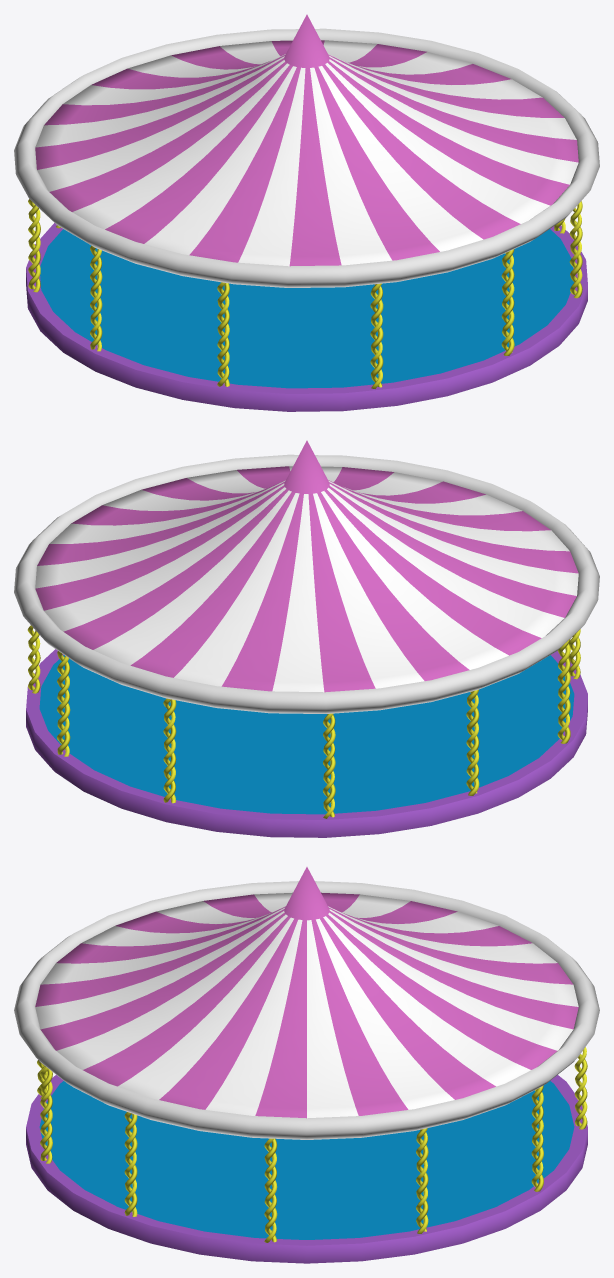
Rendered from MagicScoops.fbx.
3 views of the same model, one above another, from view 1: azimuth 30°, elevation 25°; view 2: azimuth 150°, elevation 25°; view 3: azimuth 270°, elevation 25° (orthographic).
Parts seen in each view (by area): view 1: MagicScoopRoof, MagicScoopBase, MagicScoopCornice, MagicScoopSpirals; view 2: MagicScoopRoof, MagicScoopBase, MagicScoopCornice, MagicScoopSpirals; view 3: MagicScoopRoof, MagicScoopBase, MagicScoopCornice, MagicScoopSpirals.
Boxes of the visible parts, box(x1,y1,x2,y2) form: MagicScoopRoof: box(35, 14, 578, 266); MagicScoopBase: box(26, 223, 587, 411); MagicScoopCornice: box(14, 28, 599, 287); MagicScoopSpirals: box(28, 199, 582, 388); MagicScoopRoof: box(35, 440, 578, 692); MagicScoopBase: box(26, 649, 587, 837); MagicScoopCornice: box(14, 454, 599, 713); MagicScoopSpirals: box(27, 625, 580, 818); MagicScoopRoof: box(35, 867, 578, 1118); MagicScoopBase: box(26, 1075, 587, 1263); MagicScoopCornice: box(14, 881, 599, 1139); MagicScoopSpirals: box(37, 1047, 587, 1242).
Size of the model in its own units: 224 by 224 by 118.
